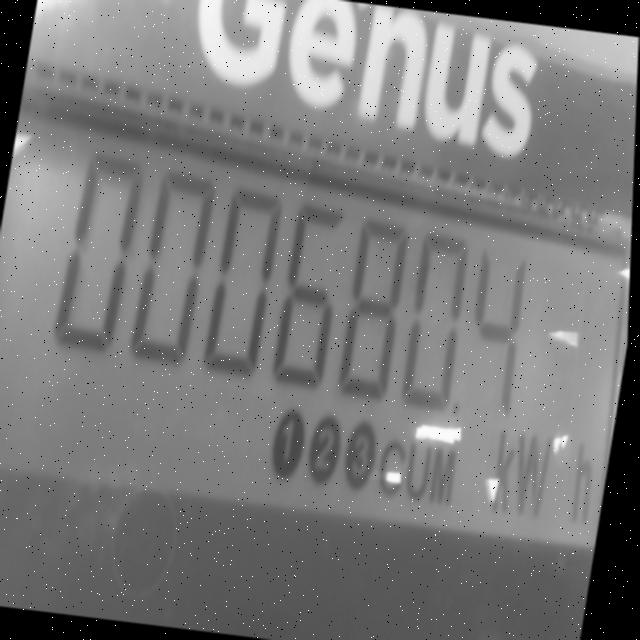.: (451, 388, 474, 422)
0: (44, 140, 155, 362), (124, 145, 227, 375), (196, 172, 298, 396), (391, 217, 485, 414)
4: (453, 241, 555, 424)
6: (262, 186, 359, 398)
8: (327, 205, 427, 412)
